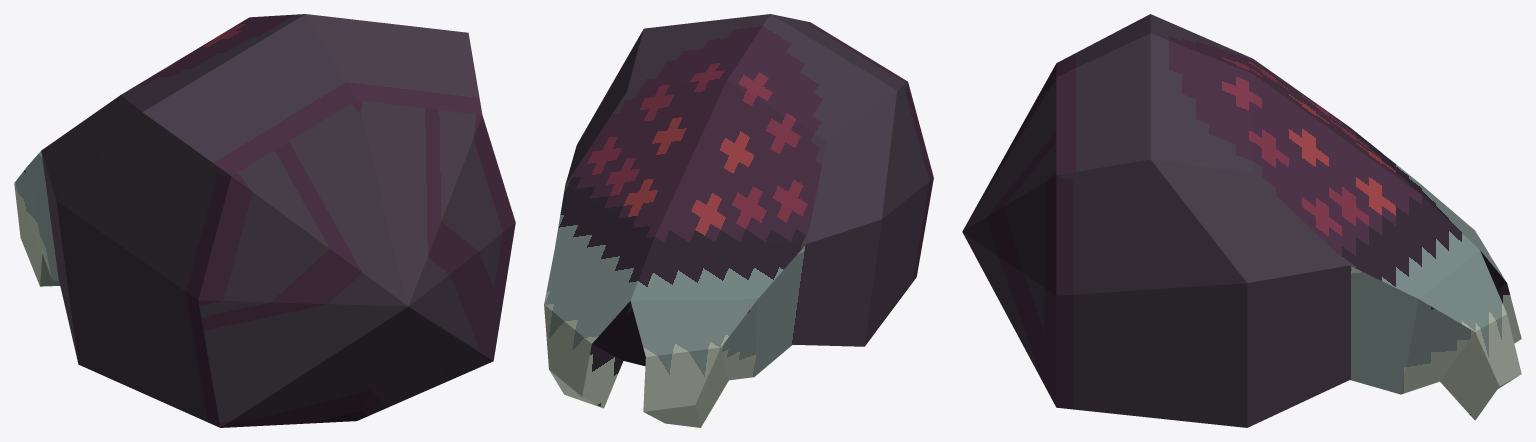
File: spider_head.glb
3 views of the same model, side by side, from view 1: azimuth 30°, elevation 25°; view 2: azimuth 150°, elevation 25°; view 3: azimuth 270°, elevation 25° (orthographic). The views are drawn at different scales.
Parts seen in each view (by area): view 1: Cube.032; view 2: Cube.032; view 3: Cube.032.
Part boxes in pixels (x1,y1,x2,y2): Cube.032: (14,14,515,427); Cube.032: (544,14,933,427); Cube.032: (962,14,1521,427).
Size of the model in its own units: 2.18 by 2.06 by 2.94.
1 material, 1 textured.
